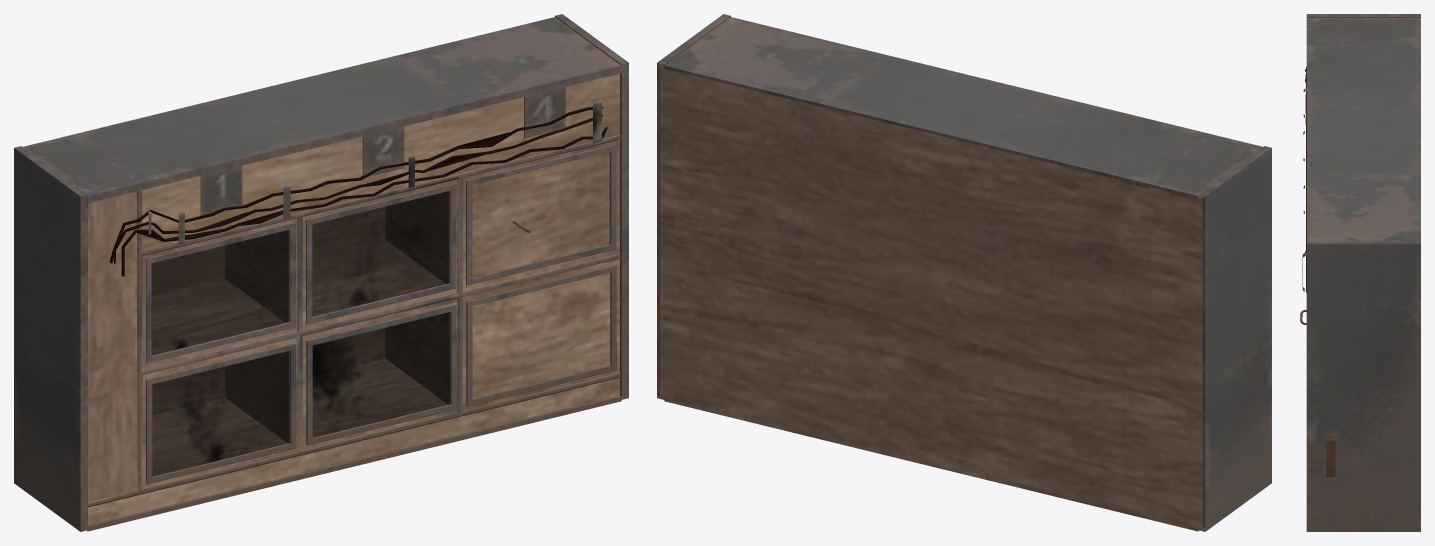
Rendered from bw-vault.lod0.glb.
3 views of the same model, side by side, from view 1: azimuth 30°, elevation 25°; view 2: azimuth 150°, elevation 25°; view 3: azimuth 270°, elevation 25° (orthographic). The views are drawn at different scales.
Parts seen in each view (by area): view 1: Body.002_Material.003_0; view 2: Body.002_Material.003_0; view 3: Body.002_Material.003_0.
Part boxes in pixels (<box>): Body.002_Material.003_0: <box>14,14,628,531</box>; Body.002_Material.003_0: <box>657,14,1271,531</box>; Body.002_Material.003_0: <box>1300,14,1420,531</box>.
Bounding box in the file's own units: 3.98 × 2.3 × 0.8697.
1 material, 1 textured.
